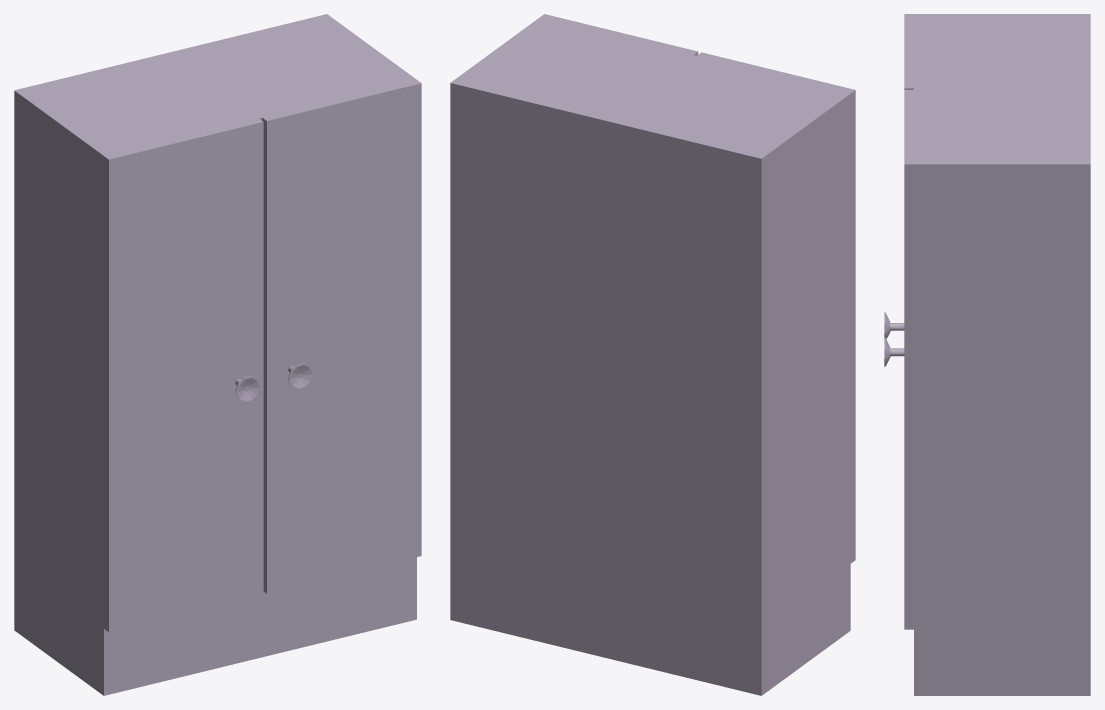
File: warderobe_nonuv.fbx
3 views of the same model, side by side, from view 1: azimuth 30°, elevation 25°; view 2: azimuth 150°, elevation 25°; view 3: azimuth 270°, elevation 25° (orthographic).
Parts seen in each view (by area): view 1: warderobe; view 2: warderobe; view 3: warderobe.
Part boxes in pixels (x1,y1,x2,y2): warderobe: (14,14,421,695); warderobe: (450,14,855,695); warderobe: (884,14,1090,695).
Bounding box in the file's own units: 1.29 × 2.13 × 0.748.
